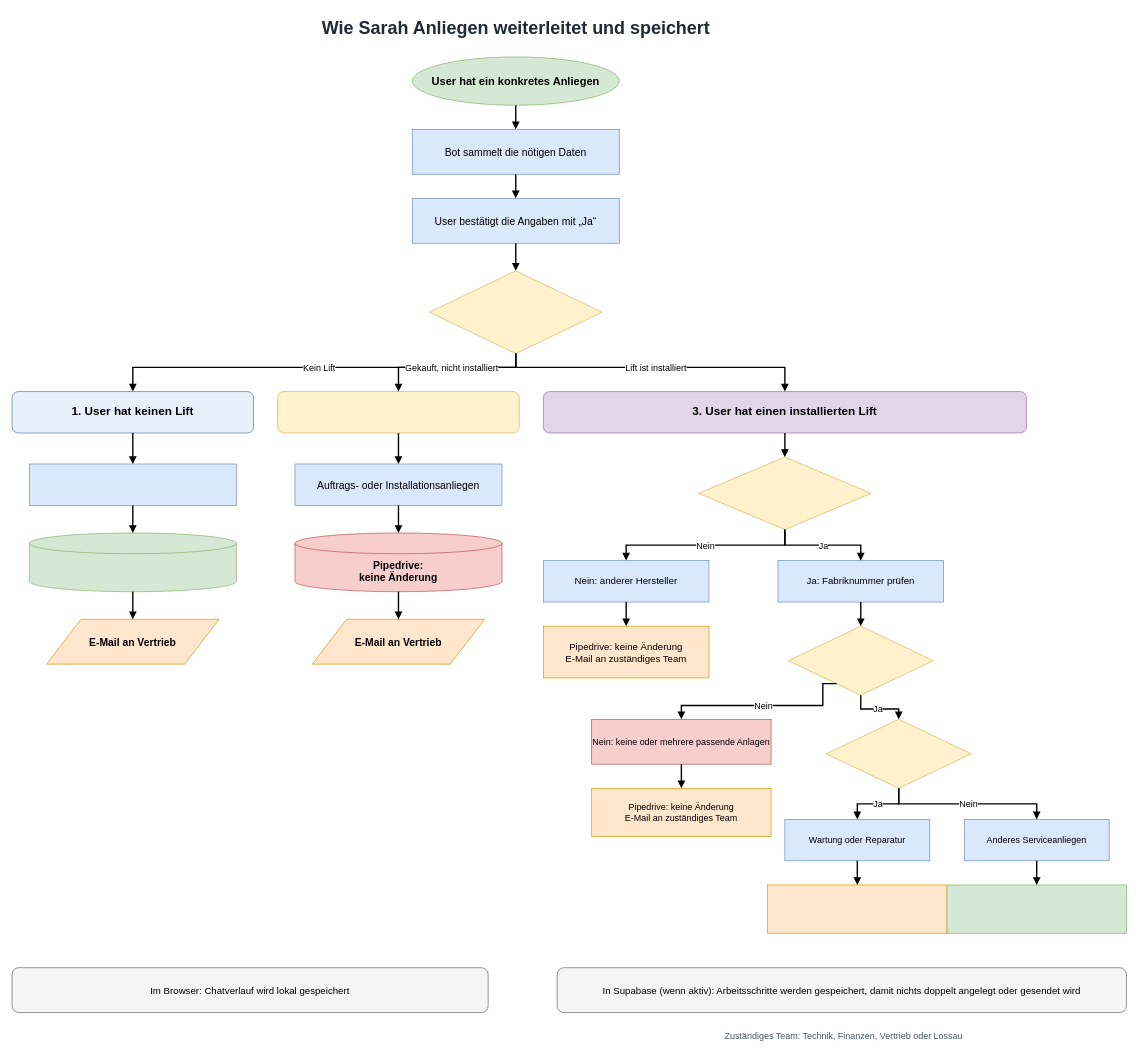
Some shapes in this 1139 by 1062 pixel diagram are drawn without their labels. The shapes that lost their labels are listed below. From the top down, each one's centre as x and y in pixels, then its label:
the point at 515,312: Welche Situation liegt vor?
the point at 398,412: 2. Lift gekauft, aber noch nicht installiert
the point at 132,484: Verkaufsanfrage
the point at 784,493: Ist es ein LIPPE Lift?
the point at 132,562: Pipedrive: Verkaufschance neu anlegen oder bestehende nutzen
the point at 860,660: Genau ein Treffer?
the point at 898,753: Wartung oder Reparatur?
the point at 857,908: Pipedrive nur lesen, nichts ändern E-Mail an Technik
the point at 1036,908: Pipedrive: neue Serviceanfrage E-Mail an zuständiges Team
